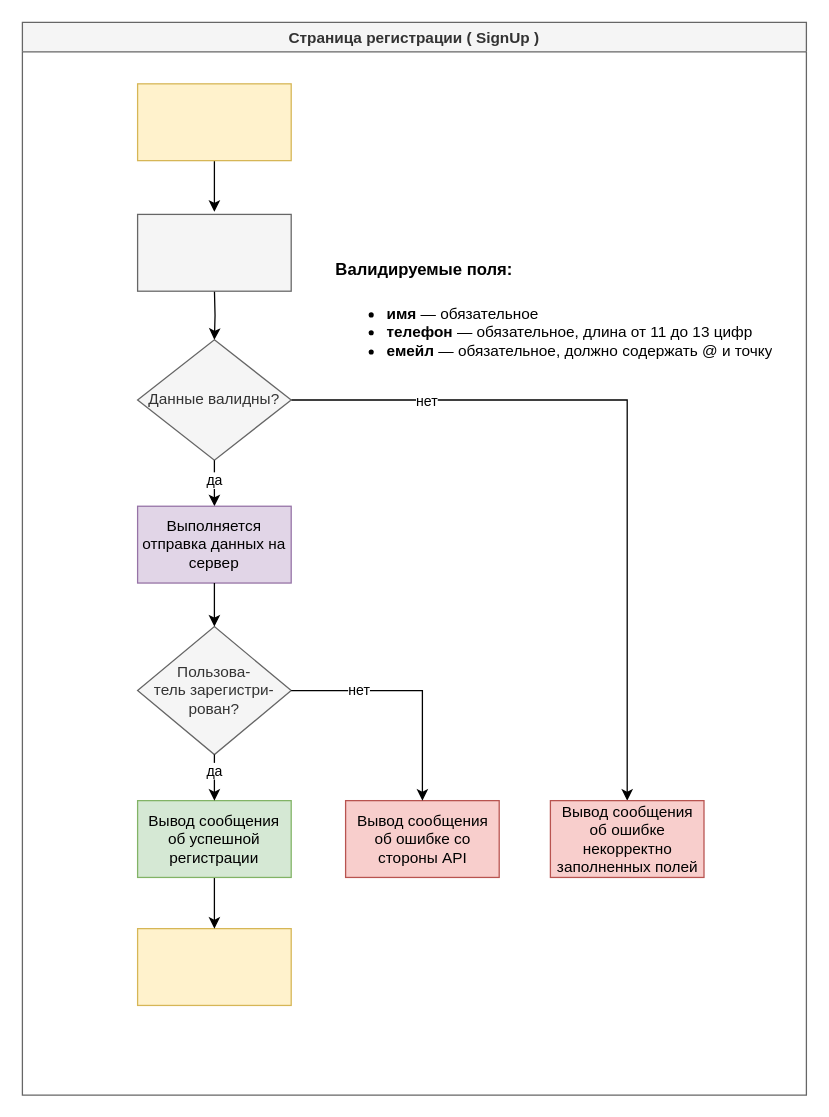
The diagram is 829 pixels wide and 1117 high, and some of its shapes have lost their labels. The centre of each missing label's shape, as x and y in pixels:
Заполнение и отправка формы: the point at 213,252
Перенаправление на страницу логина ( Login ): the point at 213,966
Пользователь переходит на страницу: the point at 213,122
